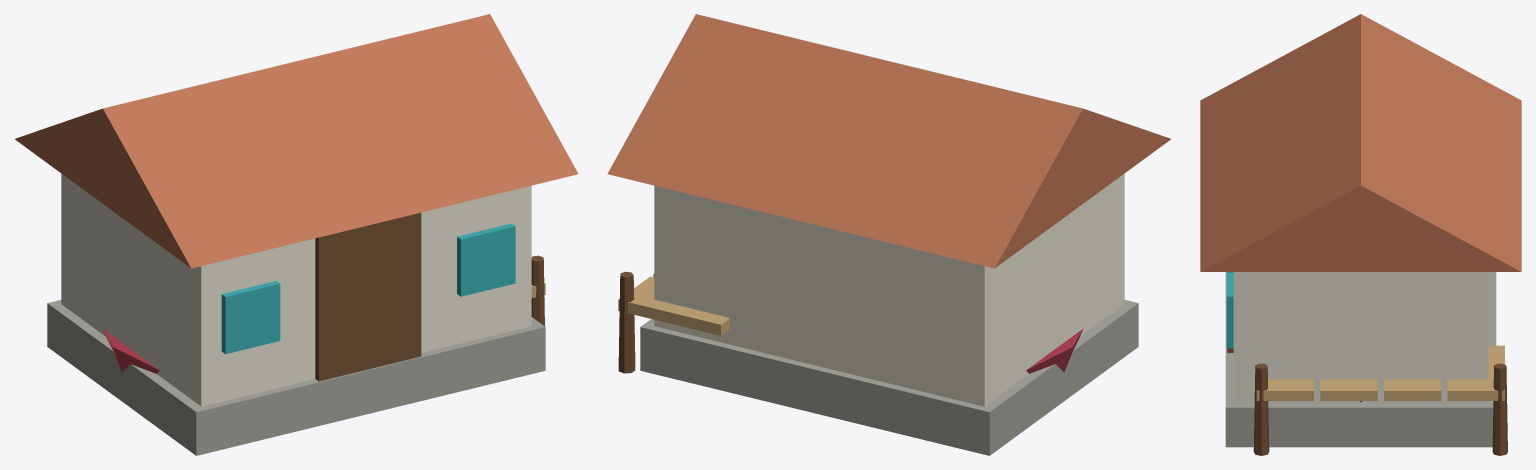
The model's file is escenografia_regional.glb.
3 views of the same model, side by side, from view 1: azimuth 30°, elevation 25°; view 2: azimuth 150°, elevation 25°; view 3: azimuth 270°, elevation 25° (orthographic). The views are drawn at different scales.
Visible parts, largest first — view 1: escena_almacen_costero, escena_muelle_esquina, escena_bote_carga; view 2: escena_almacen_costero, escena_muelle_esquina, escena_bote_carga; view 3: escena_almacen_costero, escena_muelle_esquina.
Part boxes in pixels (left/top/right/bottom): escena_almacen_costero: left=15, top=14, right=578, bottom=455; escena_muelle_esquina: left=531, top=255, right=545, bottom=326; escena_bote_carga: left=103, top=329, right=159, bottom=373; escena_almacen_costero: left=607, top=14, right=1170, bottom=455; escena_muelle_esquina: left=618, top=271, right=729, bottom=373; escena_bote_carga: left=1026, top=329, right=1082, bottom=373; escena_almacen_costero: left=1200, top=14, right=1521, bottom=447; escena_muelle_esquina: left=1253, top=345, right=1507, bottom=455.
Size of the model in its own units: 5.1 by 3.75 by 4.04.
